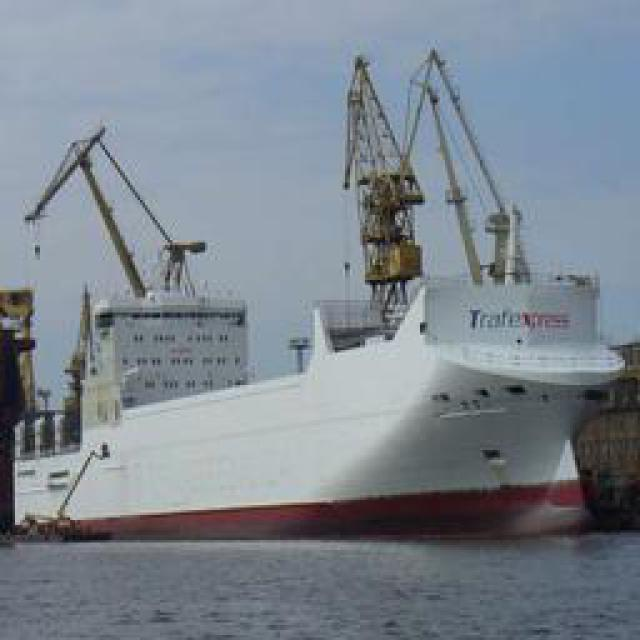Ship: (39, 27, 634, 525)
